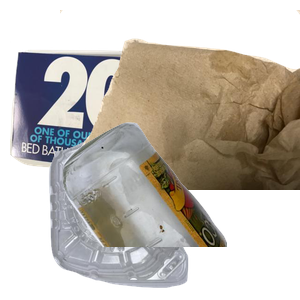glass: (60, 120, 300, 300)
paper: (10, 41, 242, 207)
plastic: (46, 130, 227, 300)
trash: (60, 10, 300, 190)
